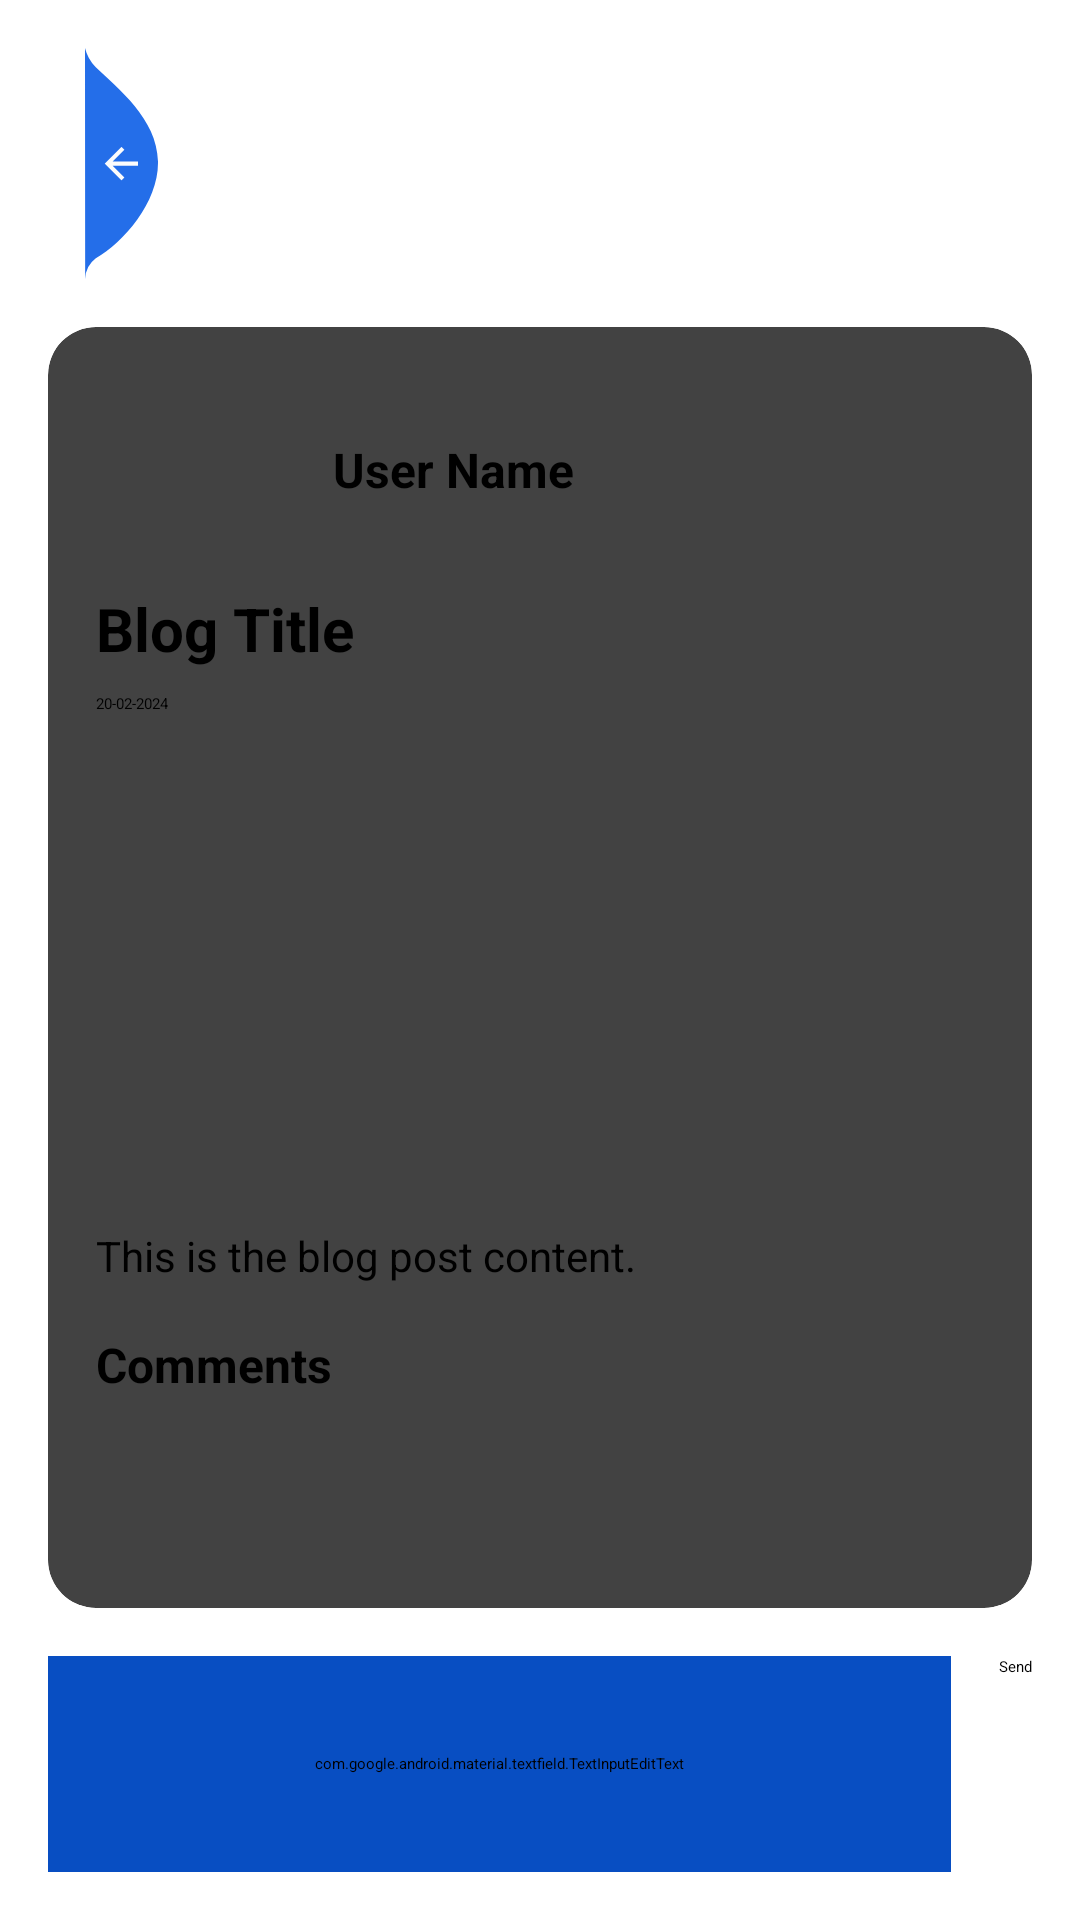

Named icons in this screenshot (1080px×1920px) and their bounding boxes, (x1, y1, x2, y2):
back: (85, 48, 158, 278)
